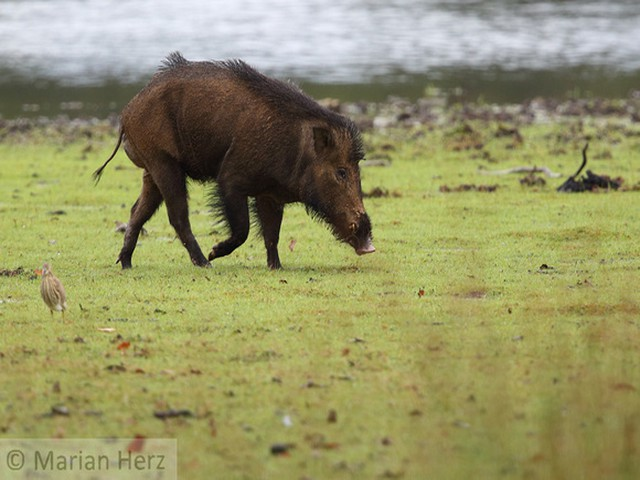Pig: (100, 46, 398, 267)
